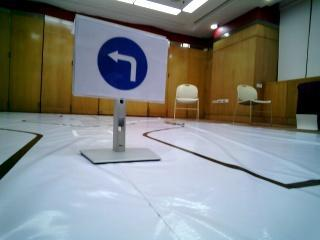left: (87, 24, 162, 98)
